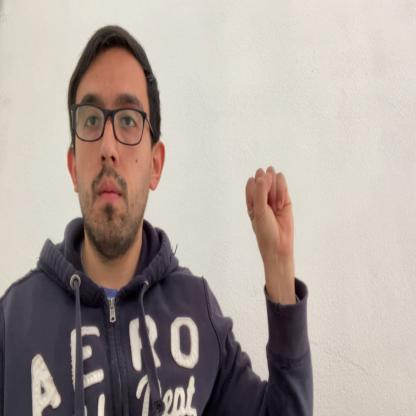S: (245, 165, 294, 253)
